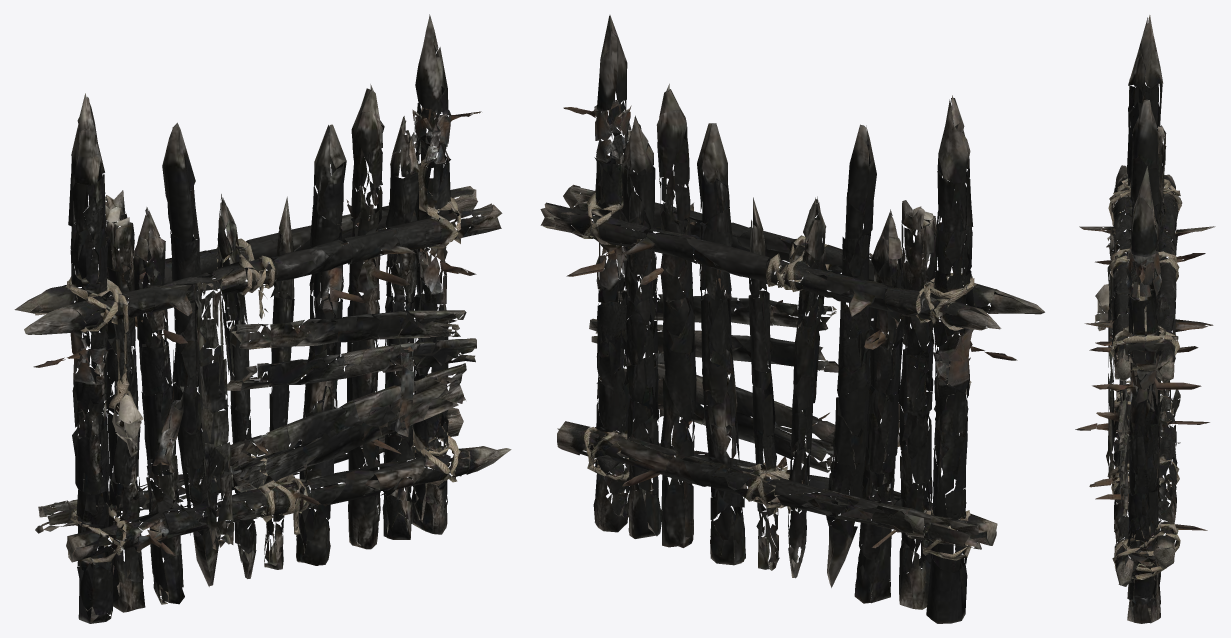
Rendered from palisade.glb.
3 views of the same model, side by side, from view 1: azimuth 30°, elevation 25°; view 2: azimuth 150°, elevation 25°; view 3: azimuth 270°, elevation 25° (orthographic). The views are drawn at different scales.
Parts seen in each view (by area): view 1: Palisade; view 2: Palisade; view 3: Palisade.
Part boxes in pixels (x1,y1,x2,y2): Palisade: [14, 14, 511, 623]; Palisade: [540, 15, 1044, 623]; Palisade: [1075, 15, 1215, 623].
Size of the model in its own units: 5 by 5.15 by 1.43.
1 material, 1 textured.
